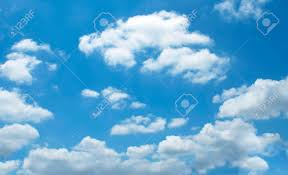sky: (2, 2, 285, 175)
